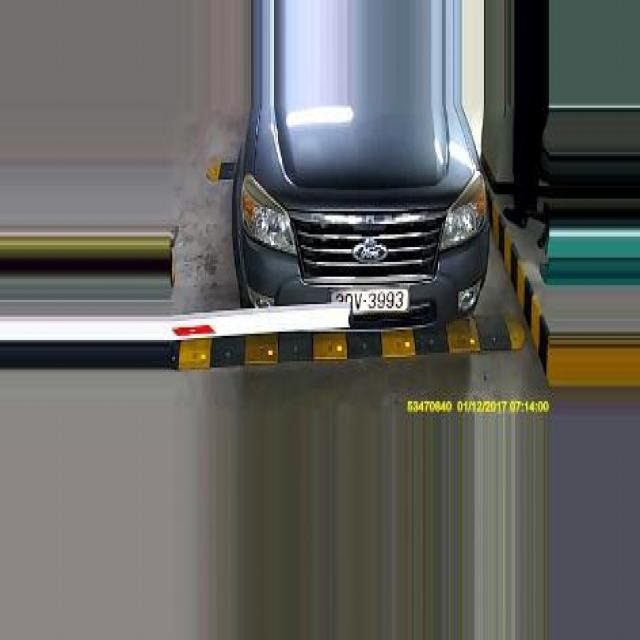License-Plates: (328, 279, 412, 323)
